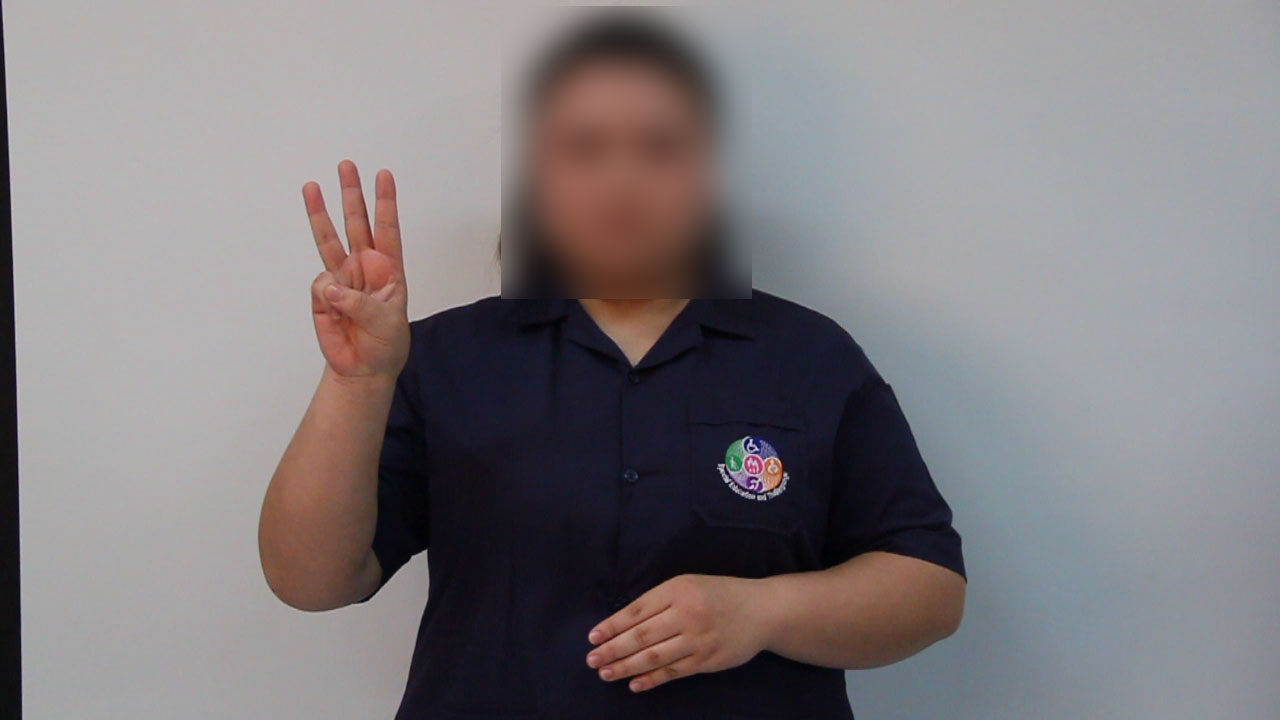wor: (292, 151, 419, 393)
